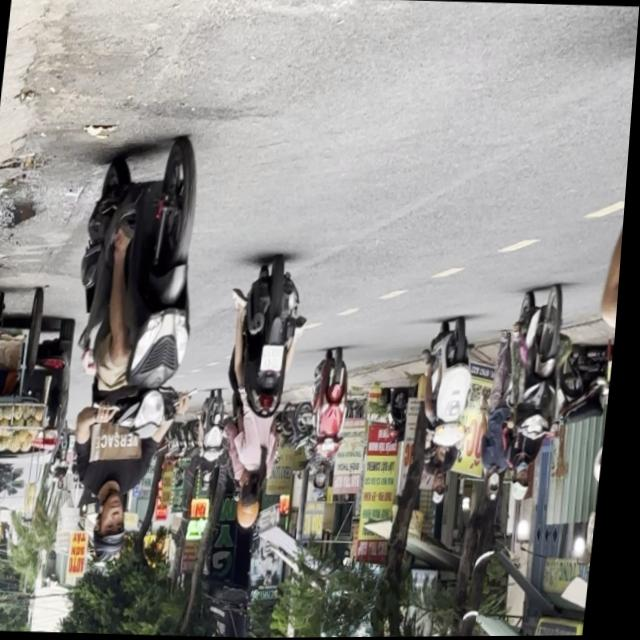helmet: (96, 487, 140, 562), (517, 458, 540, 503), (243, 496, 269, 530), (320, 470, 335, 500)
licenseplate: (54, 136, 220, 567), (216, 257, 317, 532), (501, 283, 580, 505), (415, 316, 487, 509), (306, 349, 362, 503)
motorcyclist: (245, 471, 270, 504), (439, 473, 457, 506), (438, 442, 457, 471)
nohelmet: (266, 345, 290, 372)
